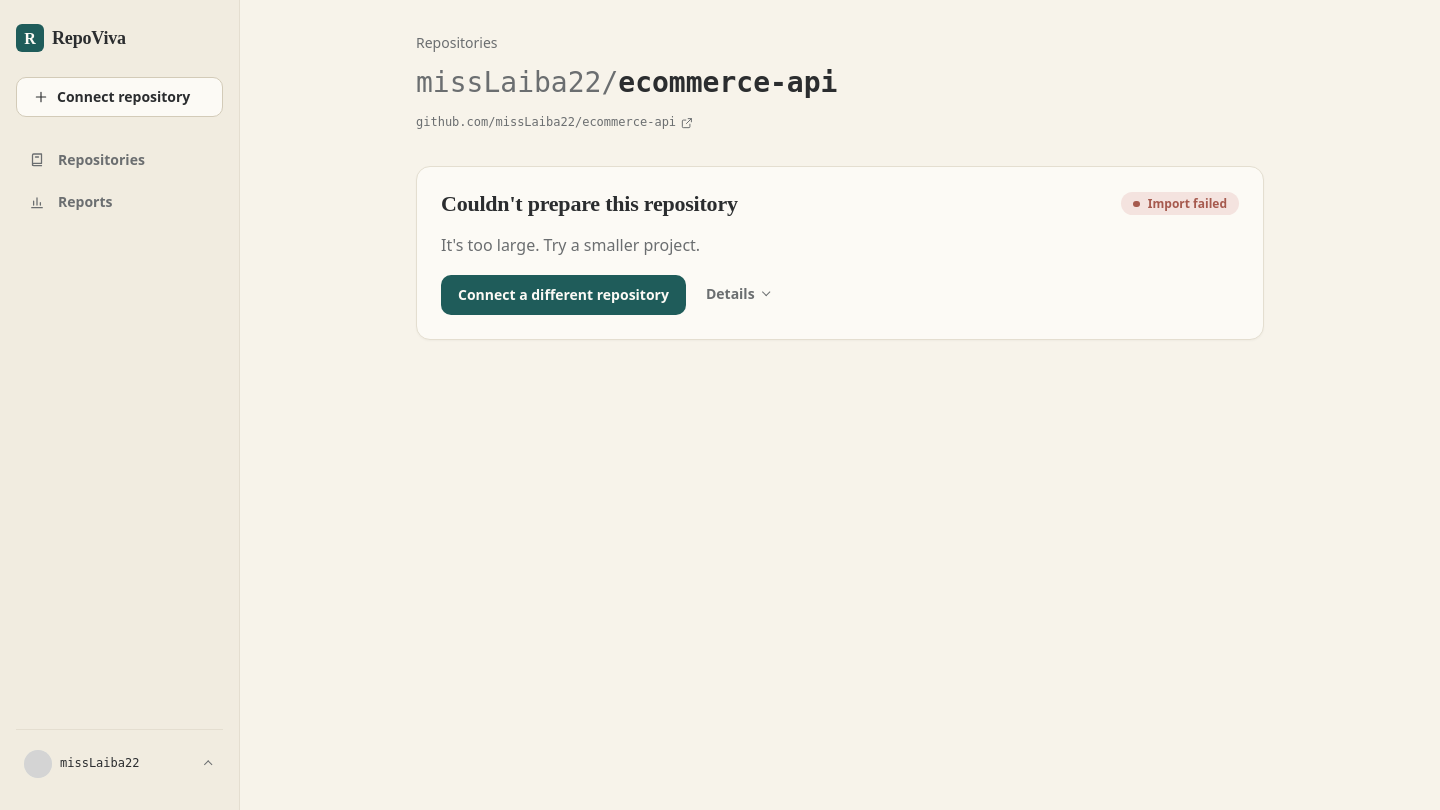
Test: repository page › explains a failed repository in plain words, with the raw error behind Details
Expected: the heading "Couldn't prepare this repository" is shown, x1=441 y1=191 x2=738 y2=217
Expected: the text "It's too large. Try a smaller project." is shown, x1=441 y1=234 x2=700 y2=256
What coordinates should you click on to do the following:
click the button "Details"
I would click on:
 (737, 295)
Its box is x1=694 y1=275 x2=781 y2=315.
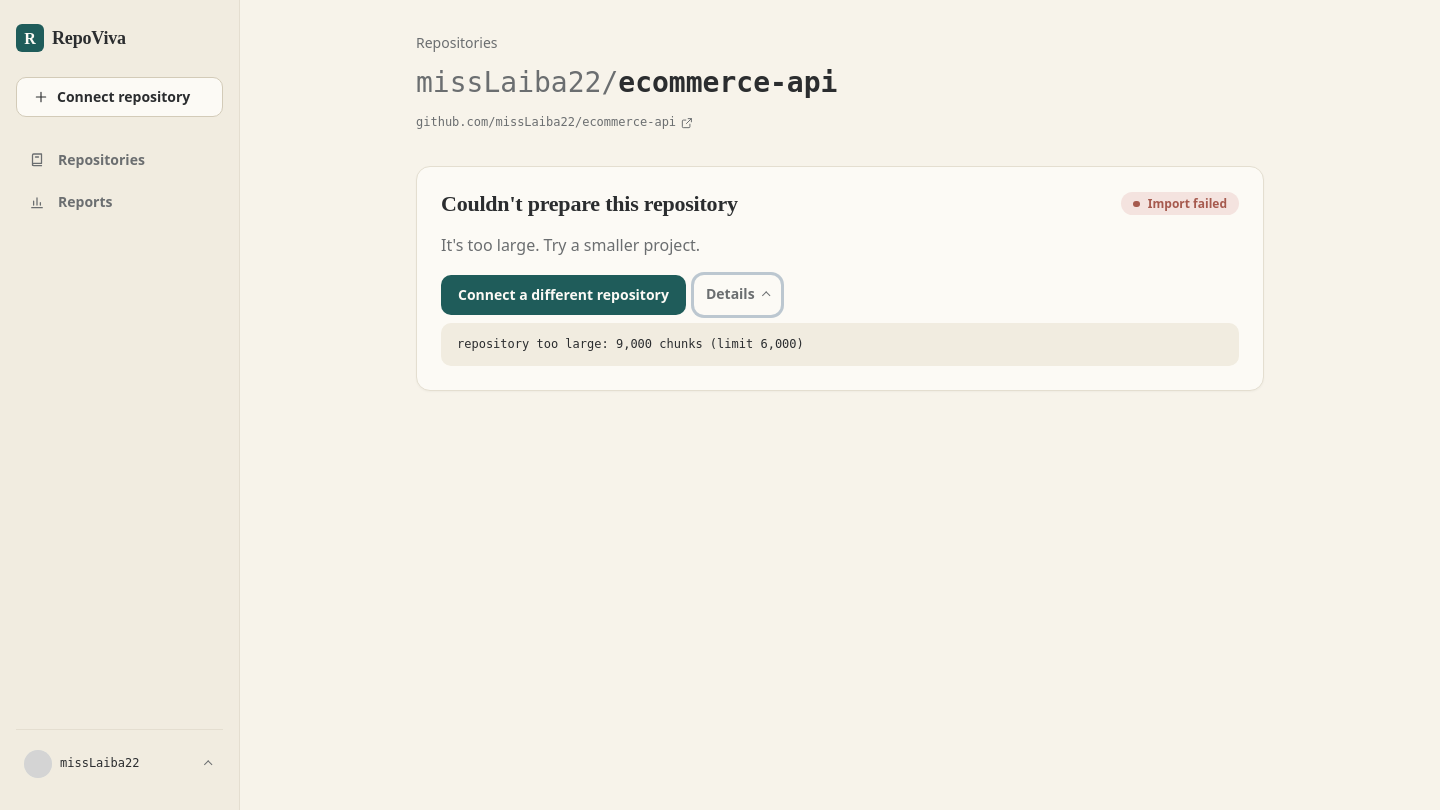
Expected: the text "repository too large: 9,000 chunks (limit 6,000)" is shown, x1=457 y1=337 x2=804 y2=351
